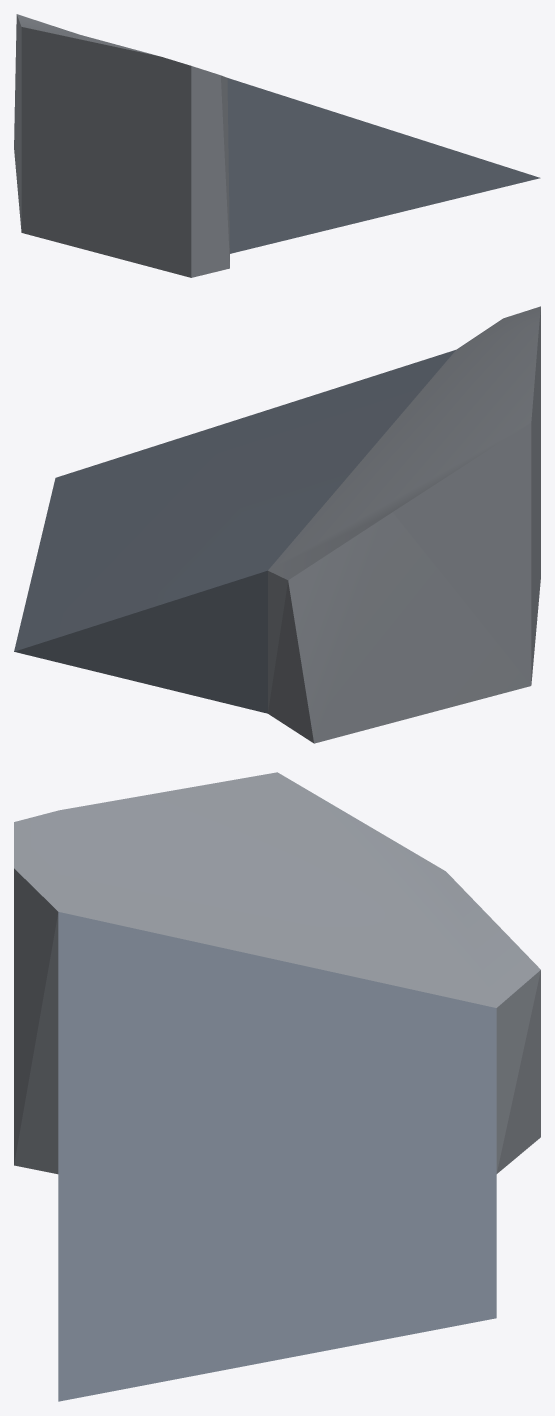
Rendered from WallPiece9.fbx.
3 views of the same model, one above another, from view 1: azimuth 30°, elevation 25°; view 2: azimuth 150°, elevation 25°; view 3: azimuth 270°, elevation 25° (orthographic). The views are drawn at different scales.
Visible parts, largest first — view 1: WallPiece9; view 2: WallPiece9; view 3: WallPiece9.
Boxes of the visible parts, x1,y1,x2,y2 form: WallPiece9: (14, 14, 540, 277); WallPiece9: (14, 306, 540, 743); WallPiece9: (14, 772, 540, 1401).
Bounding box in the file's own units: 131 × 59.95 × 90.35.
